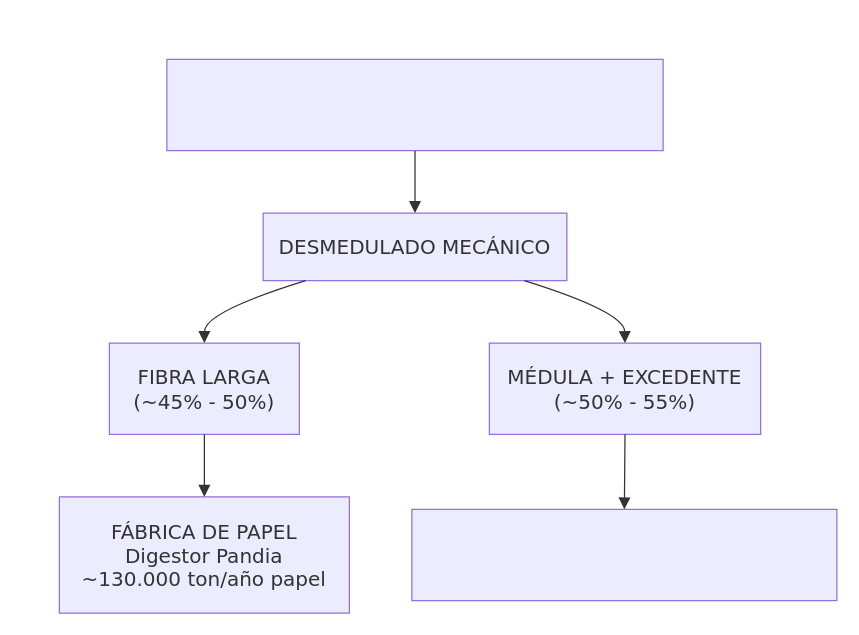
Image size: 859x635. Some labels were removed from this diagram. The shapes that lost their labels are listed below. From the top down, each one's box as (x1, y1, x2, y2) in pixels, then its label:
(166, 58, 663, 151): MOLIENDA: del orden de 900 TCH / 21.000 TCD ~960.000 ton/zafra de bagazo húmedo
(411, 508, 837, 601): CALDERAS DE ALTA PRESIÓN (45-65 bar) Cogeneración vapor/MW
